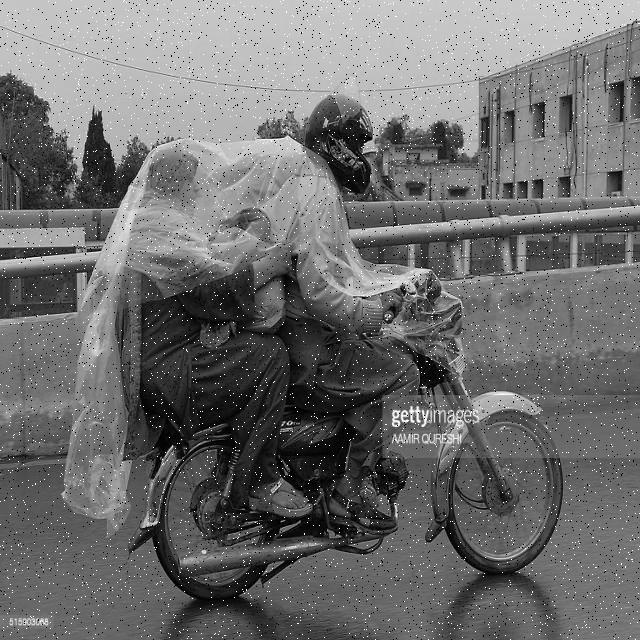Motorbike: (62, 77, 564, 599)
